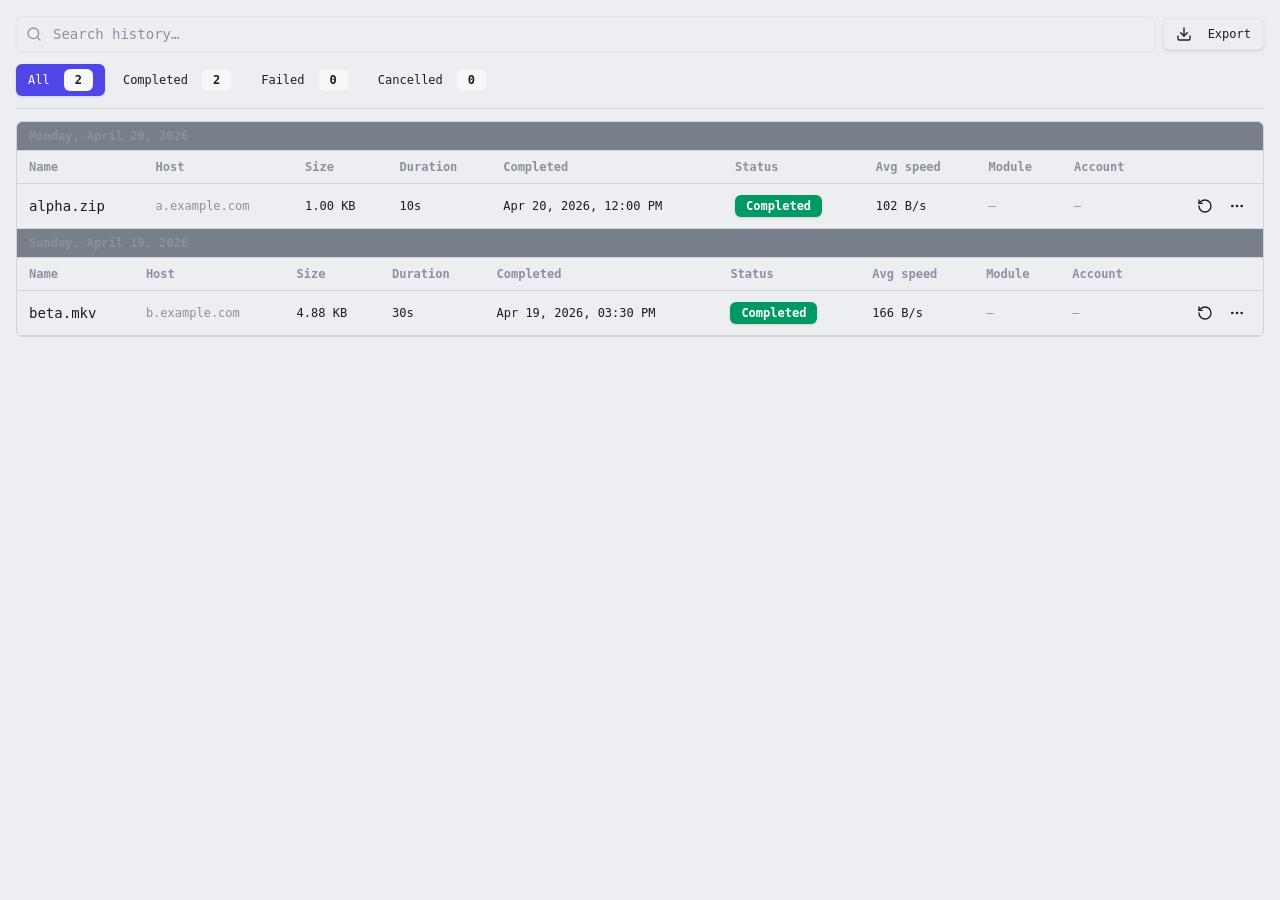
HistoryView integration › shows the overwrite dialog when the destination already exists
Expected: the text "alpha.zip" is shown, [29, 198, 105, 214]
Click the button named "Re-download" in the row of "alpha.zip".
click(1205, 206)  # box [1191, 192, 1219, 220]
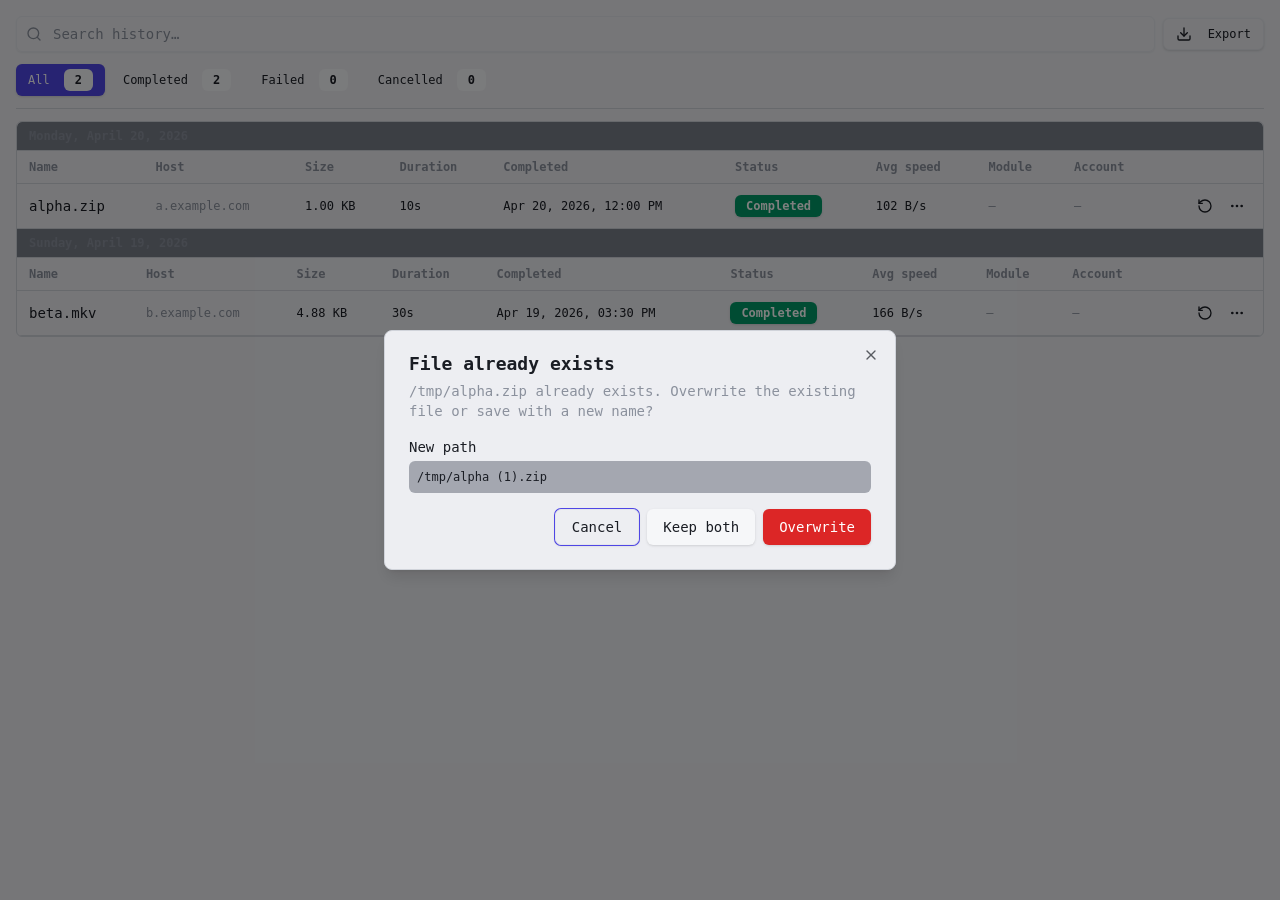
Result: the heading "File already exists" is shown at [409, 353, 615, 374]
Result: the text with test id "overwrite-suggested-path" reads "/tmp/alpha (1).zip" at [417, 470, 547, 484]
